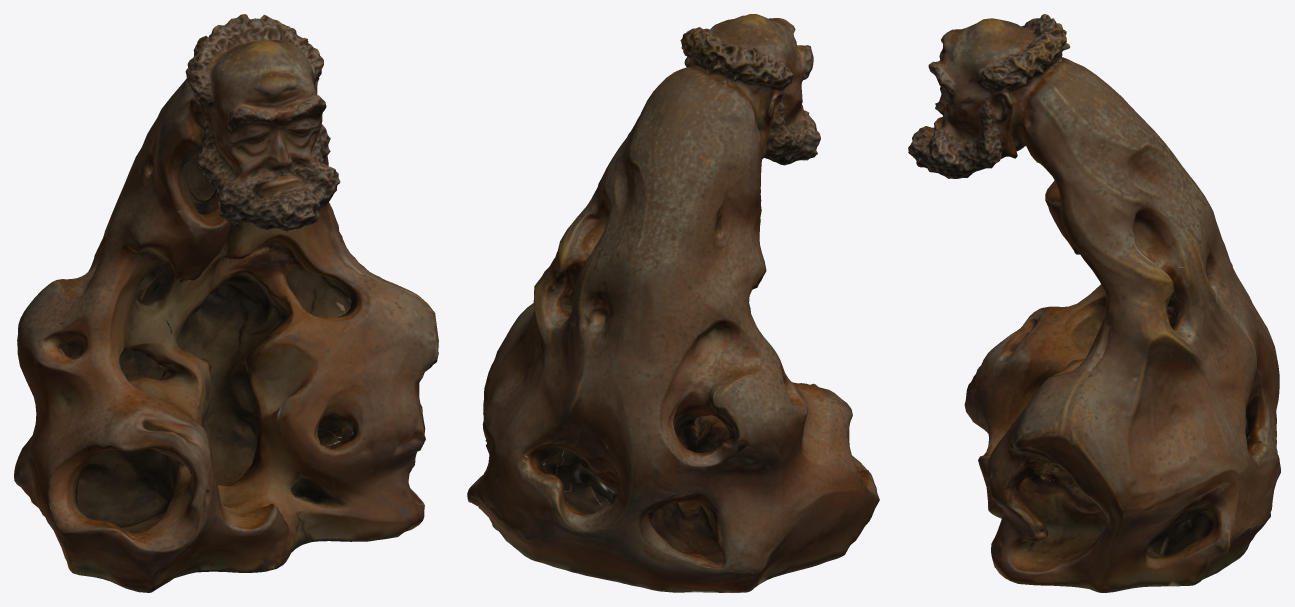
The model's file is a_tongguan_kiln_buddhist_statue.glb.
3 renders of one model, left to right at view 1: azimuth 30°, elevation 25°; view 2: azimuth 150°, elevation 25°; view 3: azimuth 270°, elevation 25°, orthographic. The views are drawn at different scales.
Visible parts, largest first — view 1: Object_4; view 2: Object_4; view 3: Object_4.
Boxes of the visible parts, <box> form: Object_4: <box>14,14,438,592</box>; Object_4: <box>467,14,879,592</box>; Object_4: <box>908,14,1280,592</box>.
Bounding box in the file's own units: 16.36 × 20.62 × 14.34.
1 material, 1 textured.
